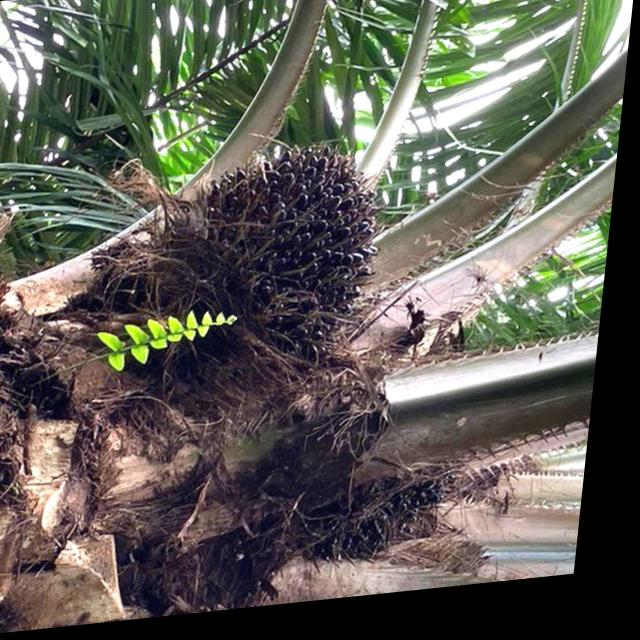almost: (117, 126, 409, 392)
